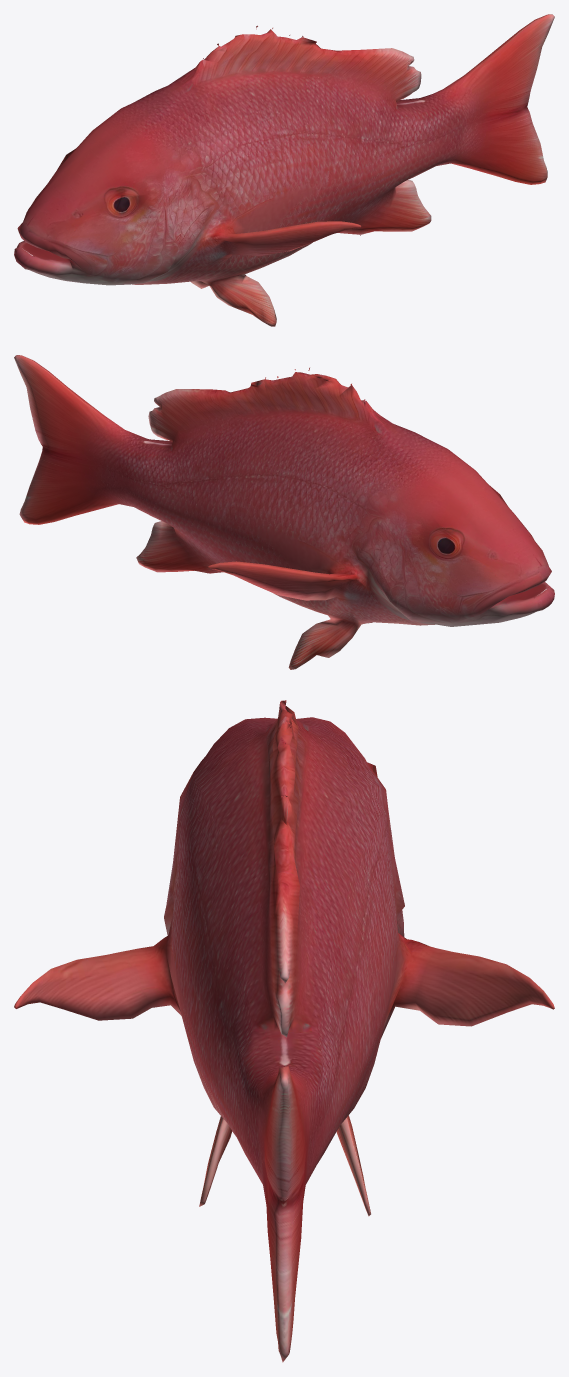
Rendered from vivaneau.glb.
The picture shows the model from 3 angles, top to bottom: view 1: azimuth 30°, elevation 25°; view 2: azimuth 150°, elevation 25°; view 3: azimuth 270°, elevation 25°; orthographic projection. The views are drawn at different scales.
Visible parts, largest first — view 1: tripo_node_7b684911; view 2: tripo_node_7b684911; view 3: tripo_node_7b684911.
Boxes of the visible parts, left/top/right/bottom form: tripo_node_7b684911: left=14, top=14, right=554, bottom=326; tripo_node_7b684911: left=14, top=355, right=554, bottom=669; tripo_node_7b684911: left=14, top=700, right=554, bottom=1362.
Bounding box in the file's own units: 97.5 × 49.48 × 48.52.
Materials: 1 (1 with a texture image).
